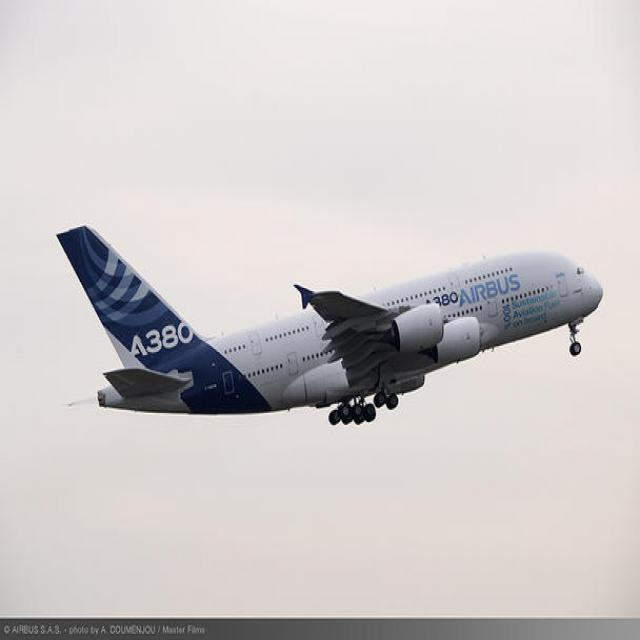A380: (53, 224, 604, 422)
